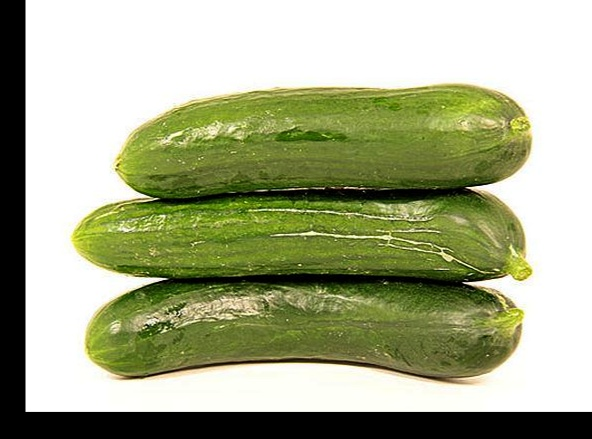cucumber: (119, 74, 532, 196), (85, 283, 527, 380), (68, 189, 523, 277)
